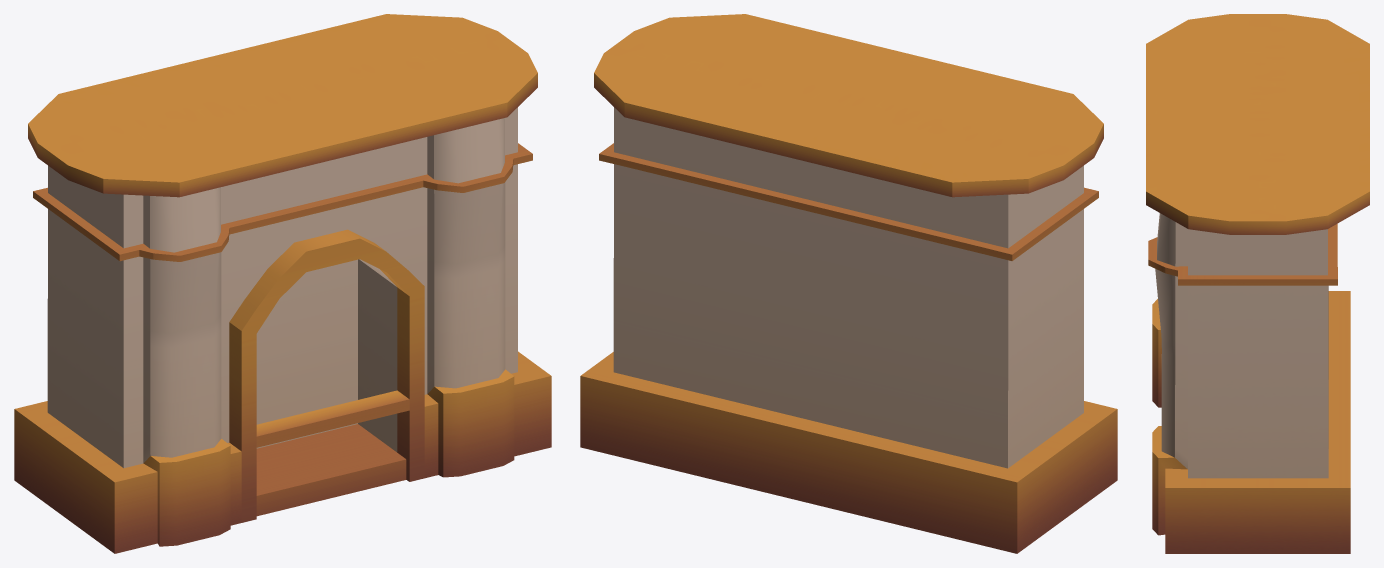
The model's file is Fireplace.fbx.
3 views of the same model, side by side, from view 1: azimuth 30°, elevation 25°; view 2: azimuth 150°, elevation 25°; view 3: azimuth 270°, elevation 25° (orthographic). The views are drawn at different scales.
Visible parts, largest first — view 1: Fireplace; view 2: Fireplace; view 3: Fireplace.
Boxes of the visible parts, x1,y1,x2,y2 form: Fireplace: (14, 14, 551, 553); Fireplace: (580, 14, 1117, 553); Fireplace: (1146, 14, 1369, 553).
Size of the model in its own units: 3.5 by 2.66 by 1.59.
